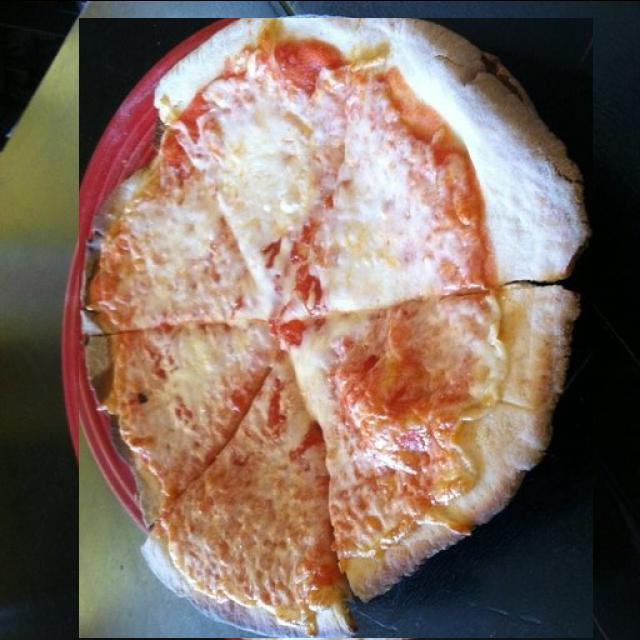pizza: (79, 17, 593, 637)
